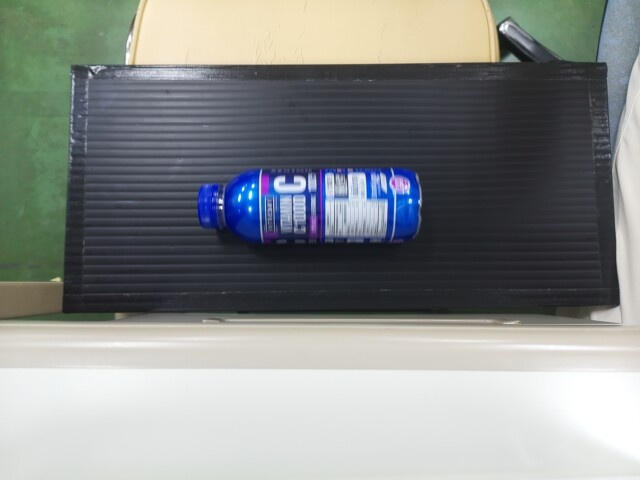plastic_bottle: (192, 166, 422, 245)
